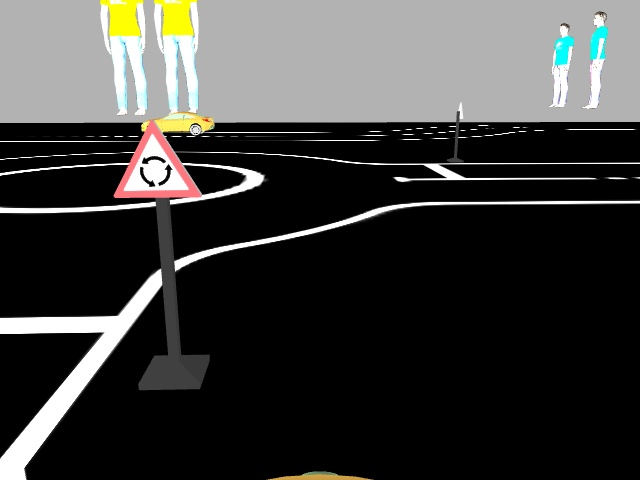Roundabout: (108, 117, 203, 197)
